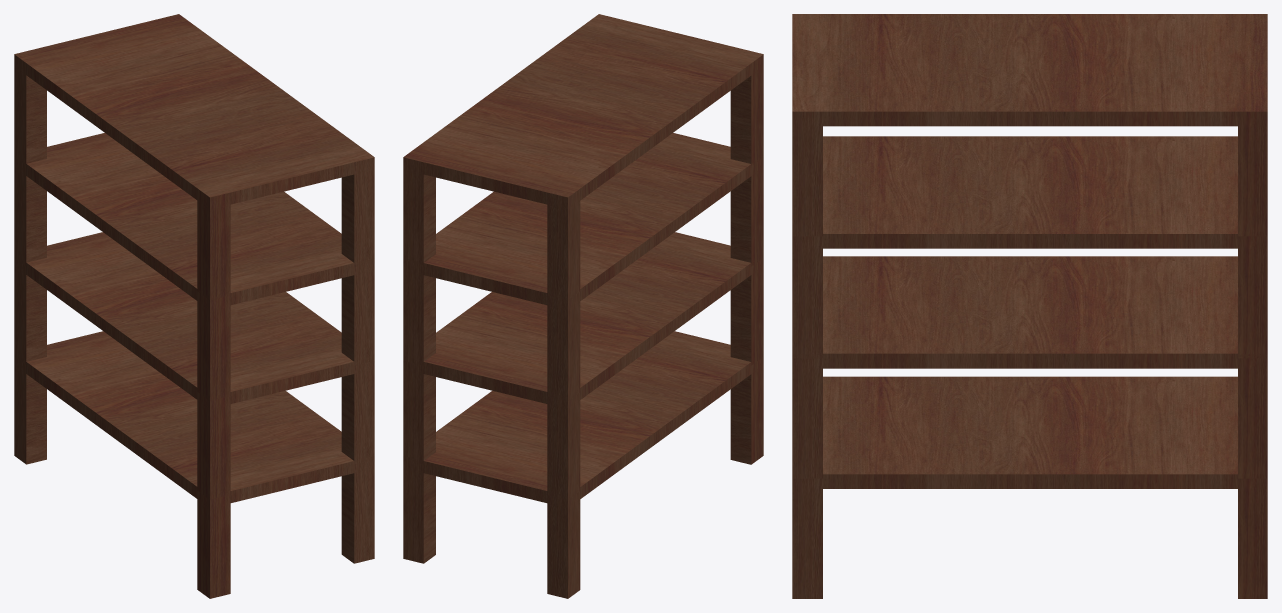
File: Shelf_Temple.glb
3 renders of one model, left to right at view 1: azimuth 30°, elevation 25°; view 2: azimuth 150°, elevation 25°; view 3: azimuth 270°, elevation 25°, orthographic. The views are drawn at different scales.
Visible parts, largest first — view 1: shelf.001; view 2: shelf.001; view 3: shelf.001.
Part boxes in pixels (x1=…): shelf.001: x1=14, y1=14, x2=374, y2=598; shelf.001: x1=403, y1=14, x2=763, y2=598; shelf.001: x1=792, y1=14, x2=1267, y2=598.
Bounding box in the file's own units: 38.53 × 89.68 × 79.27.
Materials: 1 (1 with a texture image).
